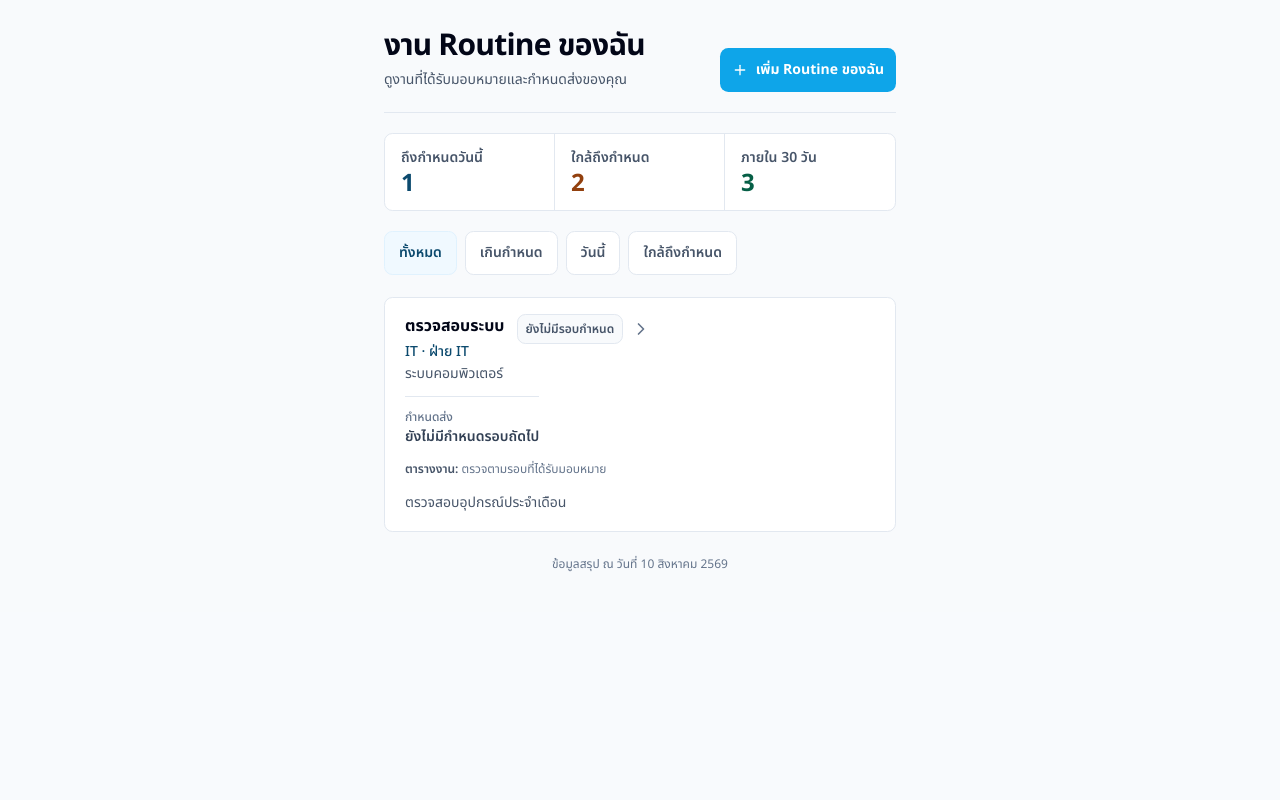
Test case: LiffRoutineApp › opens the current task detail and shows edit and delete controls for authorized tasks
expect the heading "ตรวจสอบระบบ" is shown: met, box [405,314,504,338]
Click the button with aria-label "เปิดรายละเอียดงาน ตรวจสอบระบบ": [455, 326] box [385,298,895,531]
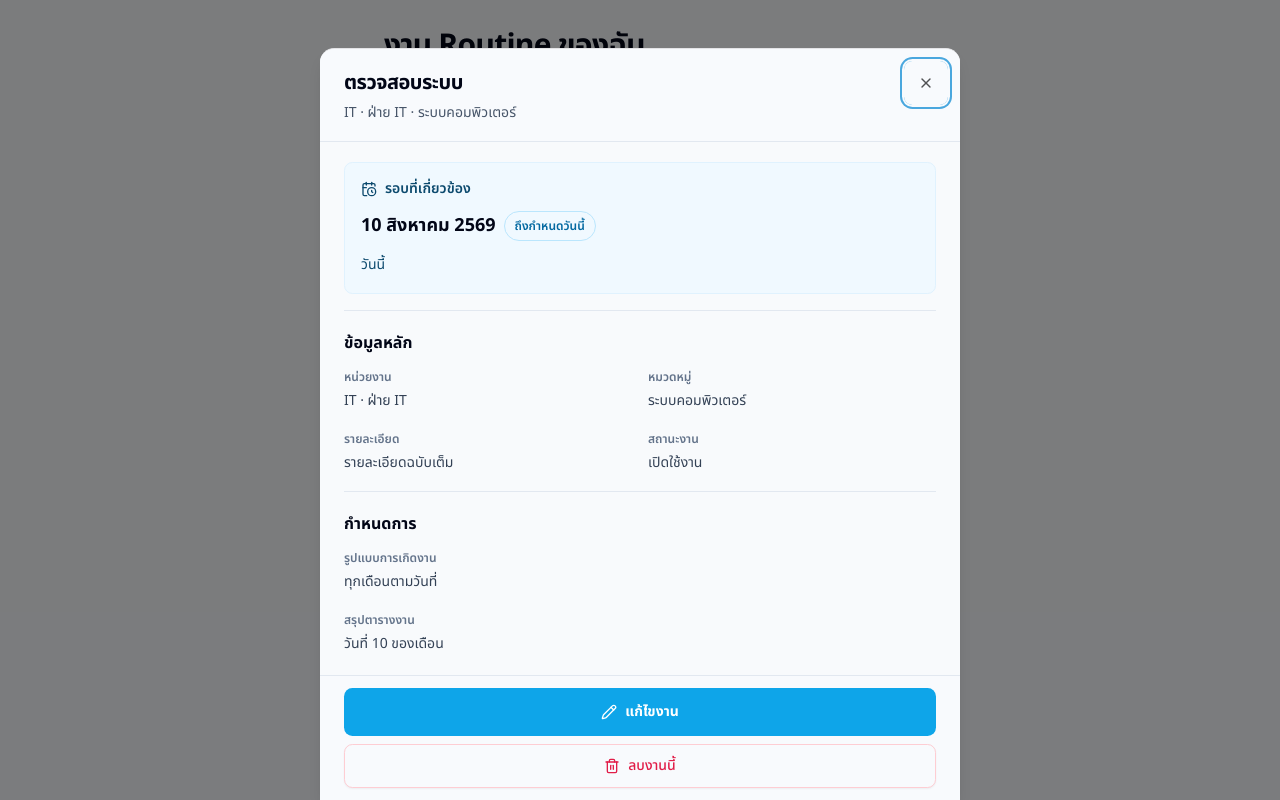
expect the text "รายละเอียดฉบับเต็ม" is shown: met, box [344,452,453,473]
